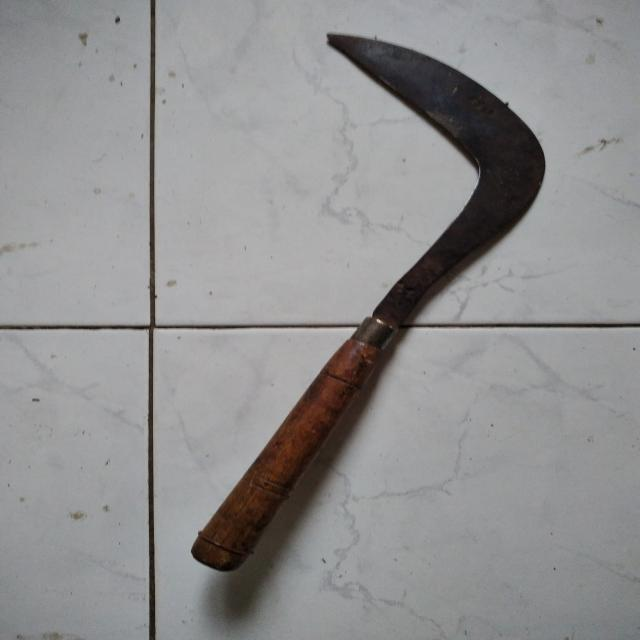Celurit: (194, 33, 542, 568)
